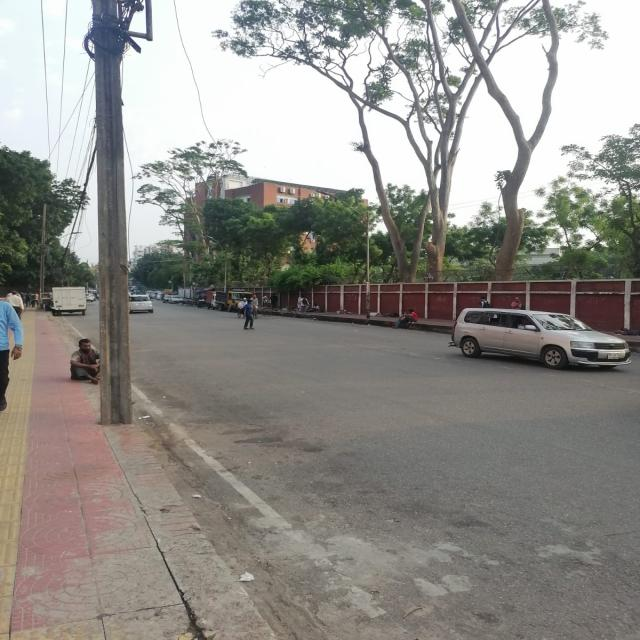person: (243, 300, 253, 330)
